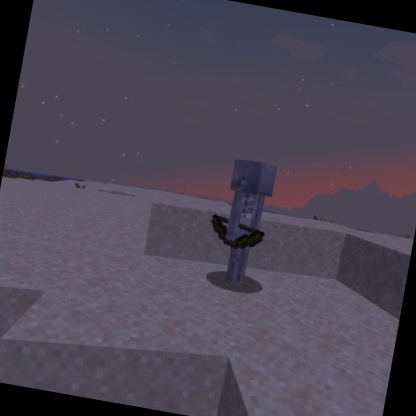skeleton: (197, 152, 282, 293)
